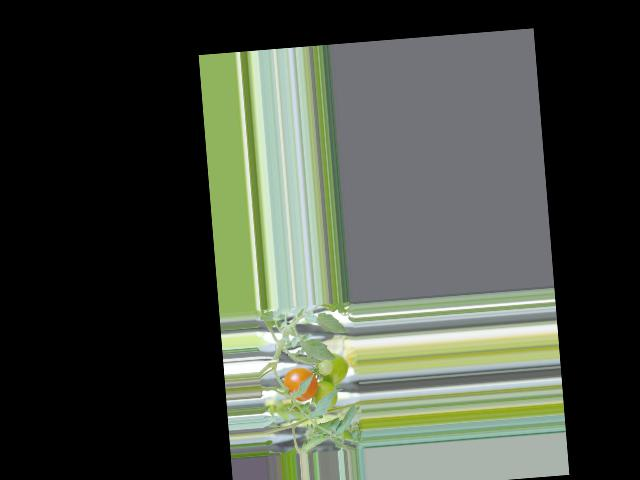tomato: (282, 365, 318, 402)
